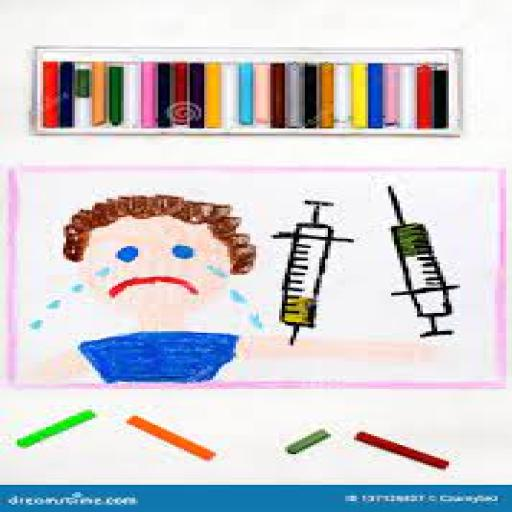person: (29, 192, 285, 393)
